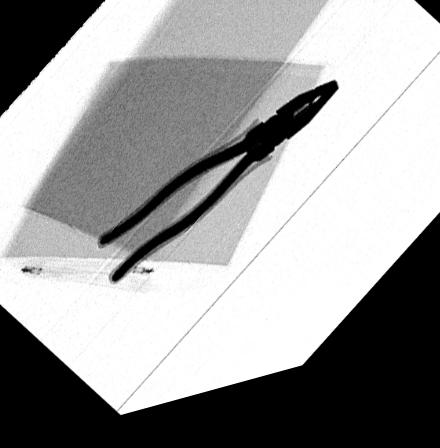Pliers: (94, 94, 342, 294)
